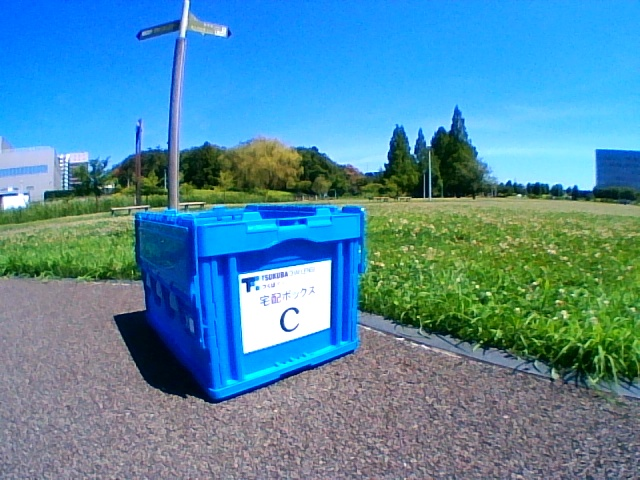blue_box: (135, 204, 364, 402)
tag_c: (251, 274, 308, 335)
